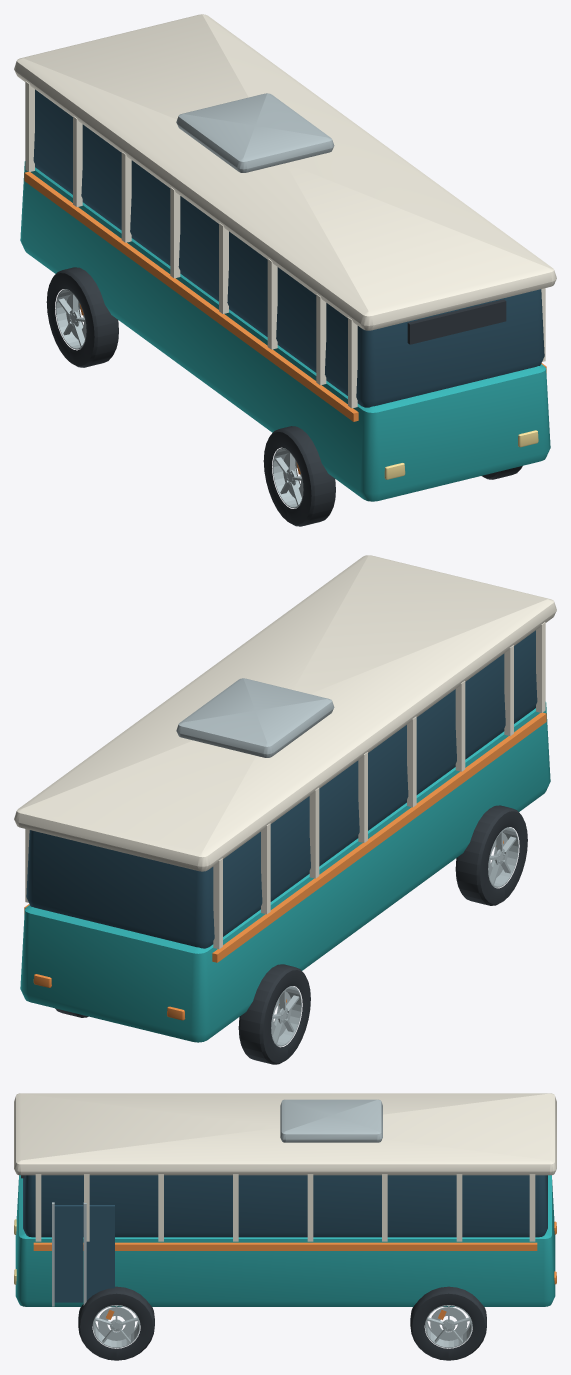
File: charter.glb
The picture shows the model from 3 angles, top to bottom: view 1: azimuth 30°, elevation 25°; view 2: azimuth 150°, elevation 25°; view 3: azimuth 270°, elevation 25°; orthographic projection. The views are drawn at different scales.
Parts seen in each view (by area): view 1: city-bus, wheel-front-left (×2), wheel-rear-left (×2); view 2: city-bus, wheel-front-left (×2), wheel-rear-left (×2); view 3: city-bus, wheel-rear-right (×2), wheel-front-right (×2).
Part boxes in pixels (box(x1,y1,x2,y2)): city-bus: box(14, 14, 556, 501); wheel-front-left (×2): box(263, 426, 335, 526); wheel-rear-left (×2): box(46, 267, 118, 367); city-bus: box(14, 555, 556, 1042); wheel-front-left (×2): box(455, 805, 527, 905); wheel-rear-left (×2): box(238, 964, 310, 1064); city-bus: box(14, 1093, 556, 1306); wheel-rear-right (×2): box(410, 1286, 486, 1360); wheel-front-right (×2): box(78, 1286, 154, 1360).
Bounding box in the file's own units: 2.72 × 3.2 × 7.65.
